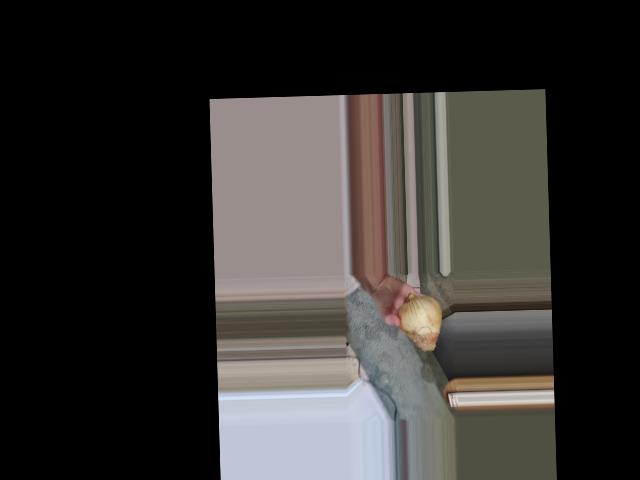onion: (396, 296, 440, 353)
